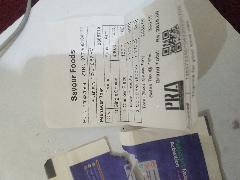paper: (43, 1, 198, 131), (120, 127, 222, 179), (44, 138, 136, 180)
